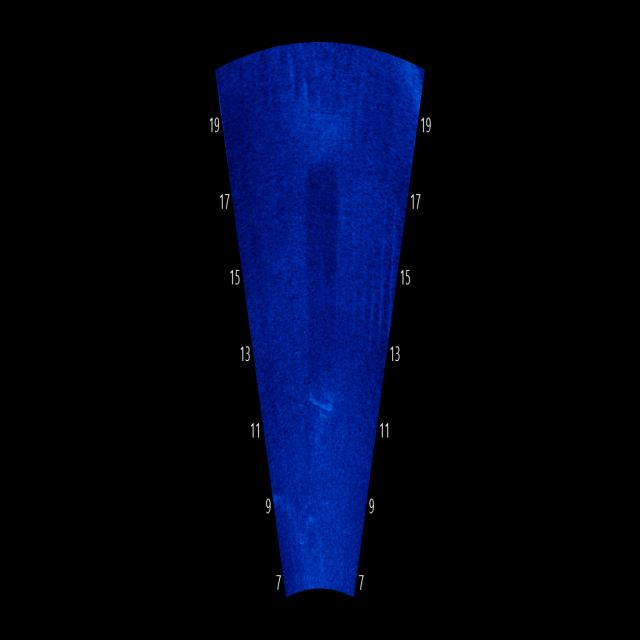triangle: (299, 384, 336, 476)
